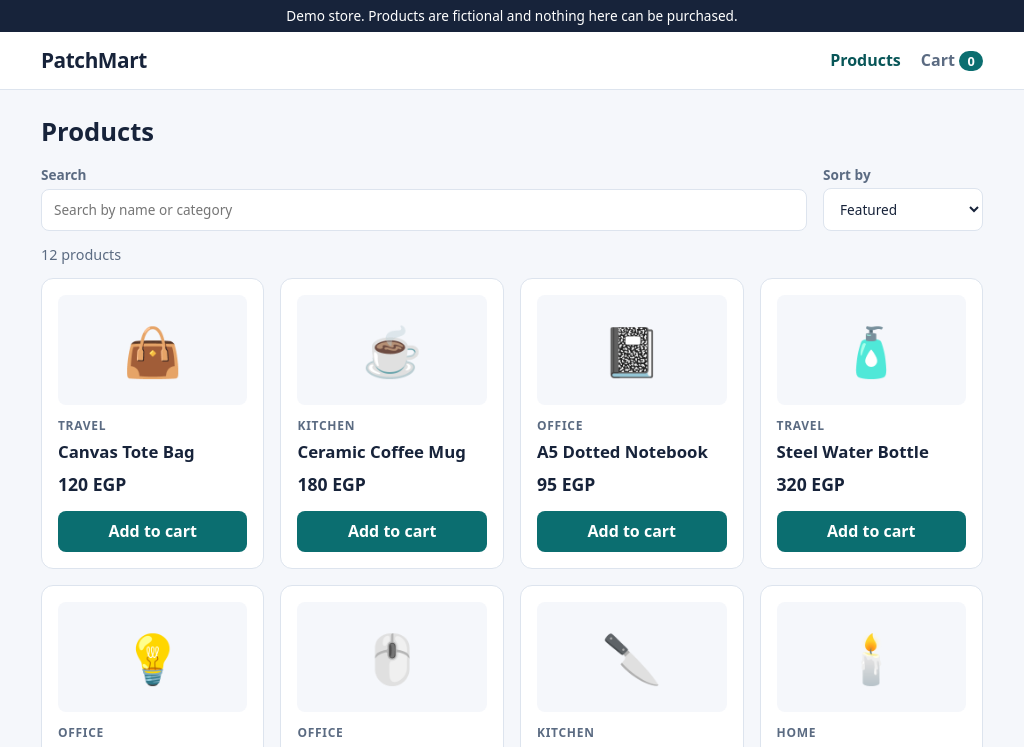
Test case: products page › updates the cart counter when a product is added
The width and height of the screenshot is (1024, 747).
Expected: the text with test id "cart-count" reads "0", [967,52,975,70]
Click the button "Add to cart" below "Canvas Tote Bag" at (153, 532), box [58,511,248,552]
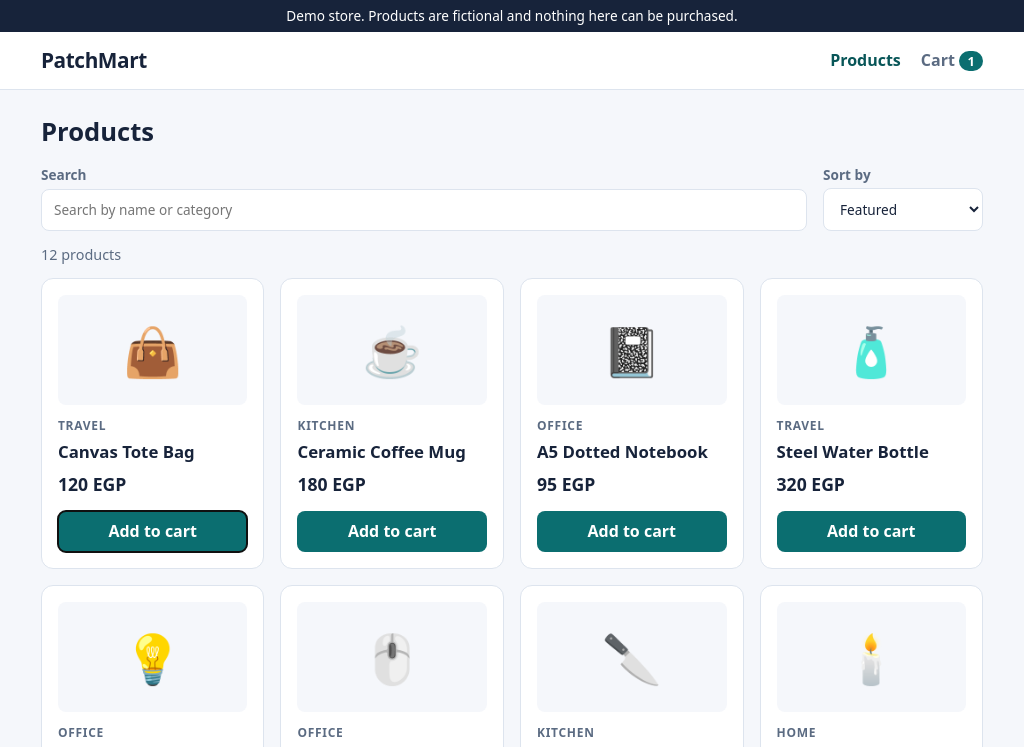
Expected: the text with test id "cart-count" reads "1", [967,52,975,70]
